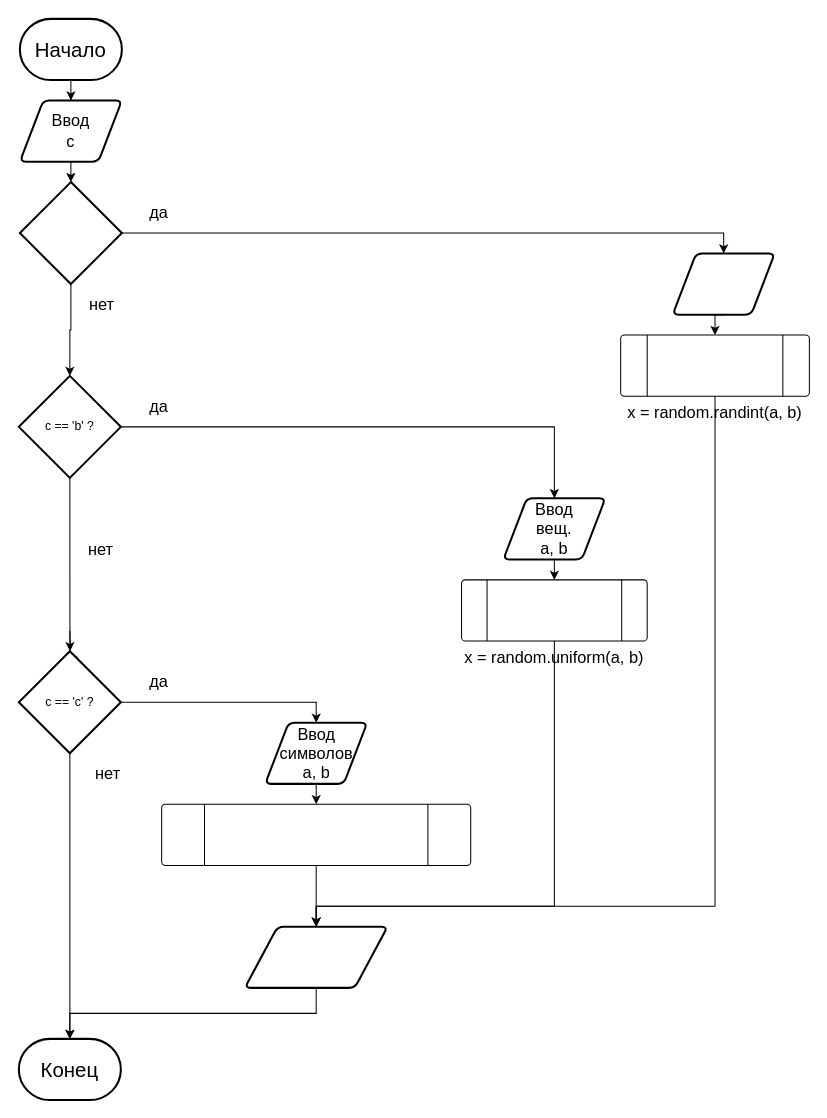
This 827x1118 diagram has some shape labels left out. Here are the shapes that lost their labels. From the top down, the centre of each, then its label:
At point 70,233: "c == 'a' ?".
At point 723,283: "Ввод целых а, b".
At point 316,834: "x = chr(random.randint(ord(a), ord(b)))".
At point 315,956: "Вывод результата x".
